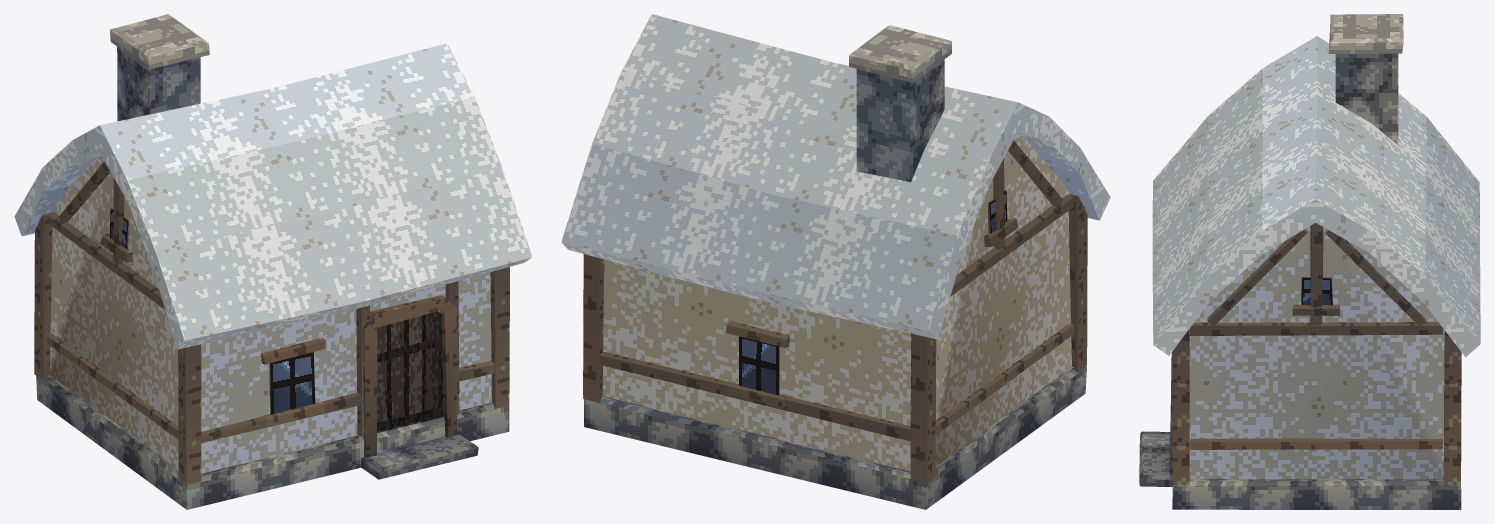
The model's file is vlg.cottage__small.glb.
3 renders of one model, left to right at view 1: azimuth 30°, elevation 25°; view 2: azimuth 150°, elevation 25°; view 3: azimuth 270°, elevation 25°, orthographic. The views are drawn at different scales.
Visible parts, largest first — view 1: kit_roof, kit_walls, kit_stonework, kit_fittings, kit_frame; view 2: kit_roof, kit_walls, kit_stonework, kit_frame, kit_fittings; view 3: kit_roof, kit_walls, kit_stonework, kit_frame, kit_fittings.
Boxes of the visible parts, box(x1,y1,x2,y2) form: kit_roof: box(14, 43, 532, 349); kit_walls: box(50, 156, 491, 473); kit_stonework: box(36, 14, 509, 509); kit_fittings: box(100, 208, 478, 479); kit_frame: box(34, 161, 509, 484); kit_roof: box(561, 14, 1110, 339); kit_walls: box(602, 133, 1071, 471); kit_stonework: box(584, 25, 1086, 509); kit_frame: box(583, 140, 1087, 483); kit_fittings: box(726, 190, 1018, 407); kit_roof: box(1152, 36, 1480, 357); kit_walls: box(1189, 226, 1444, 478); kit_stonework: box(1172, 14, 1461, 509); kit_frame: box(1172, 223, 1461, 485); kit_fittings: box(1139, 277, 1339, 486).
Bounding box in the file's own units: 5.57 × 5.89 × 4.94.
Materials: 8 (8 with a texture image).
